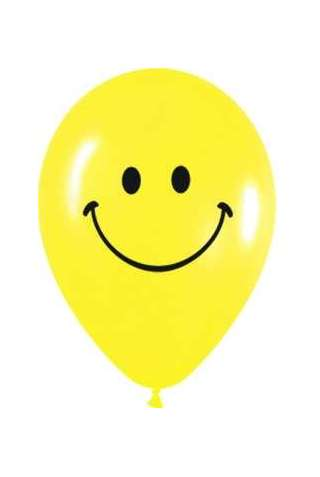feliz: (65, 155, 242, 279)
